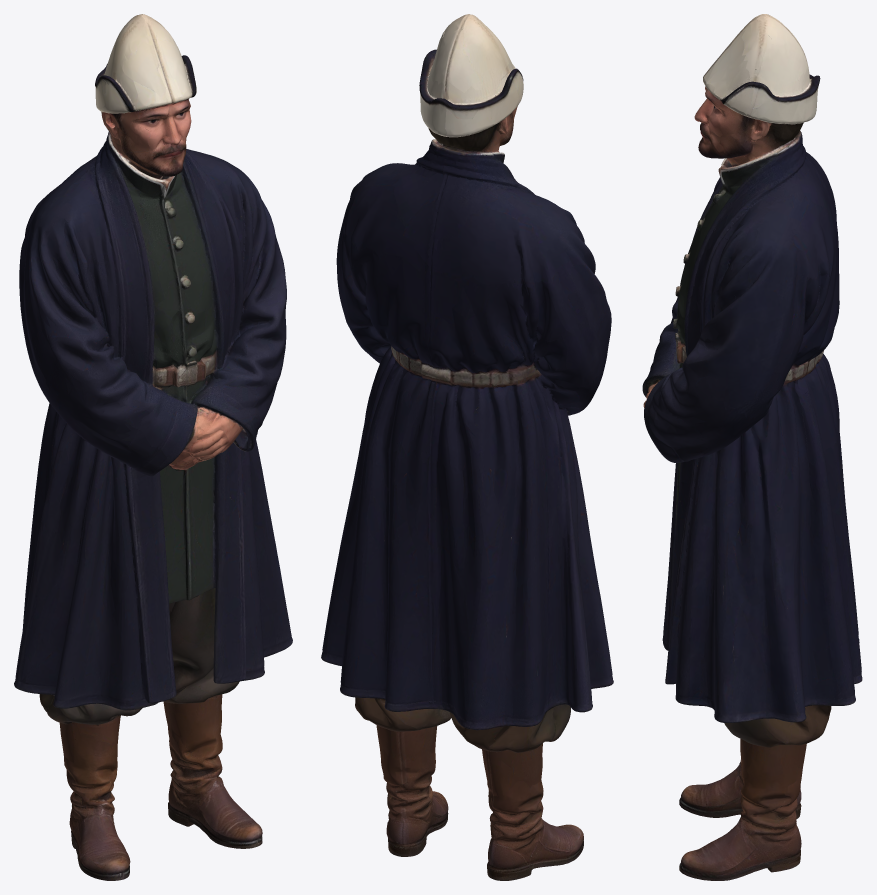
The model's file is ancestor_2.glb.
3 views of the same model, side by side, from view 1: azimuth 30°, elevation 25°; view 2: azimuth 150°, elevation 25°; view 3: azimuth 270°, elevation 25° (orthographic). The views are drawn at different scales.
Visible parts, largest first — view 1: ancestor; view 2: ancestor; view 3: ancestor.
Boxes of the visible parts, x1,y1,x2,y2 form: ancestor: (14, 14, 292, 880); ancestor: (321, 14, 613, 880); ancestor: (642, 14, 862, 880).
Size of the model in its own units: 0.5827 by 1.8 by 0.4356.
Materials: 1 (1 with a texture image).
